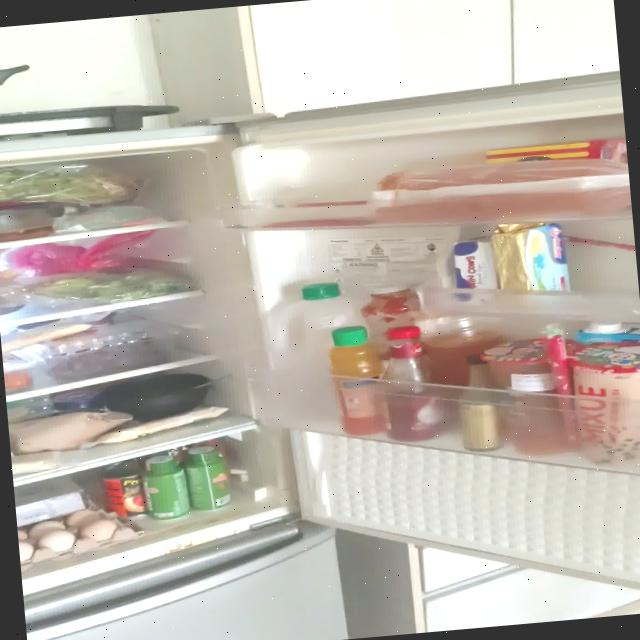egg: (16, 500, 148, 570)
